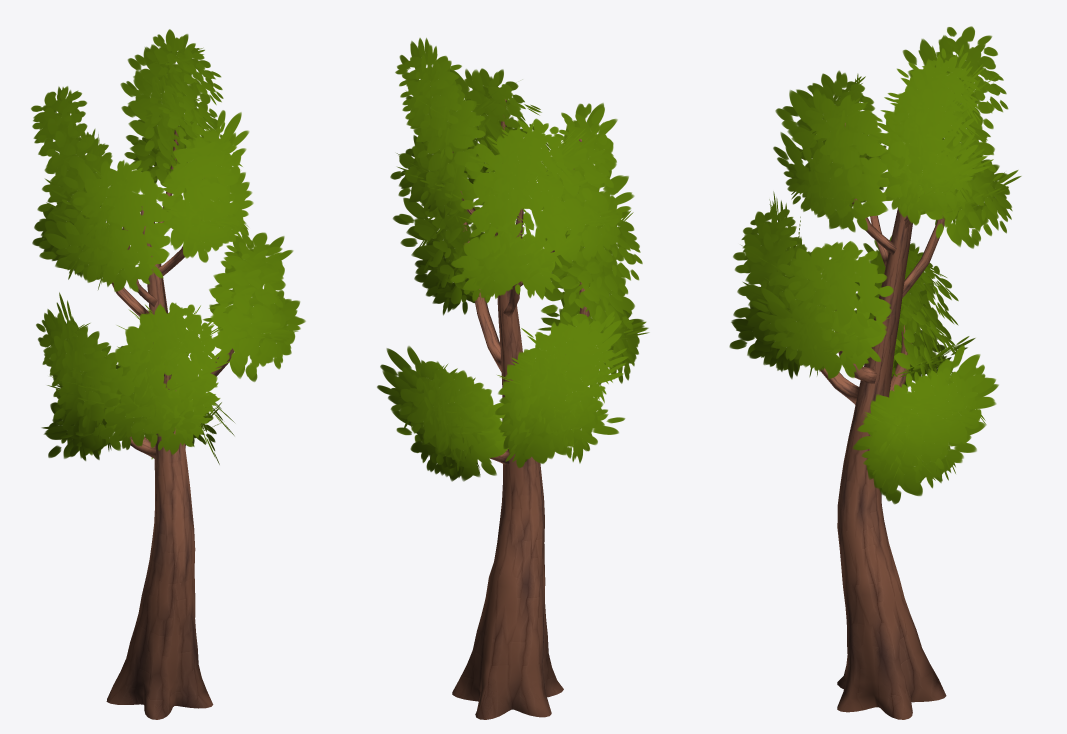
Rendered from Tree3.glb.
3 views of the same model, side by side, from view 1: azimuth 30°, elevation 25°; view 2: azimuth 150°, elevation 25°; view 3: azimuth 270°, elevation 25° (orthographic). The views are drawn at different scales.
Parts seen in each view (by area): view 1: CommonTree_3; view 2: CommonTree_3; view 3: CommonTree_3.
Part boxes in pixels (x1,y1,x2,y2): CommonTree_3: [31, 29, 305, 719]; CommonTree_3: [377, 38, 649, 719]; CommonTree_3: [729, 26, 1021, 719].
Size of the model in its own units: 4.06 by 9.43 by 4.24.
Materials: 2 (2 with a texture image).
